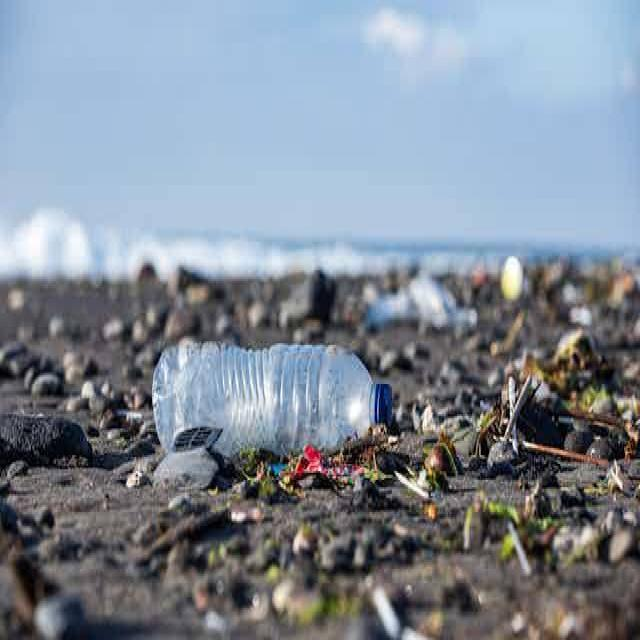plastic: (150, 316, 418, 496)
